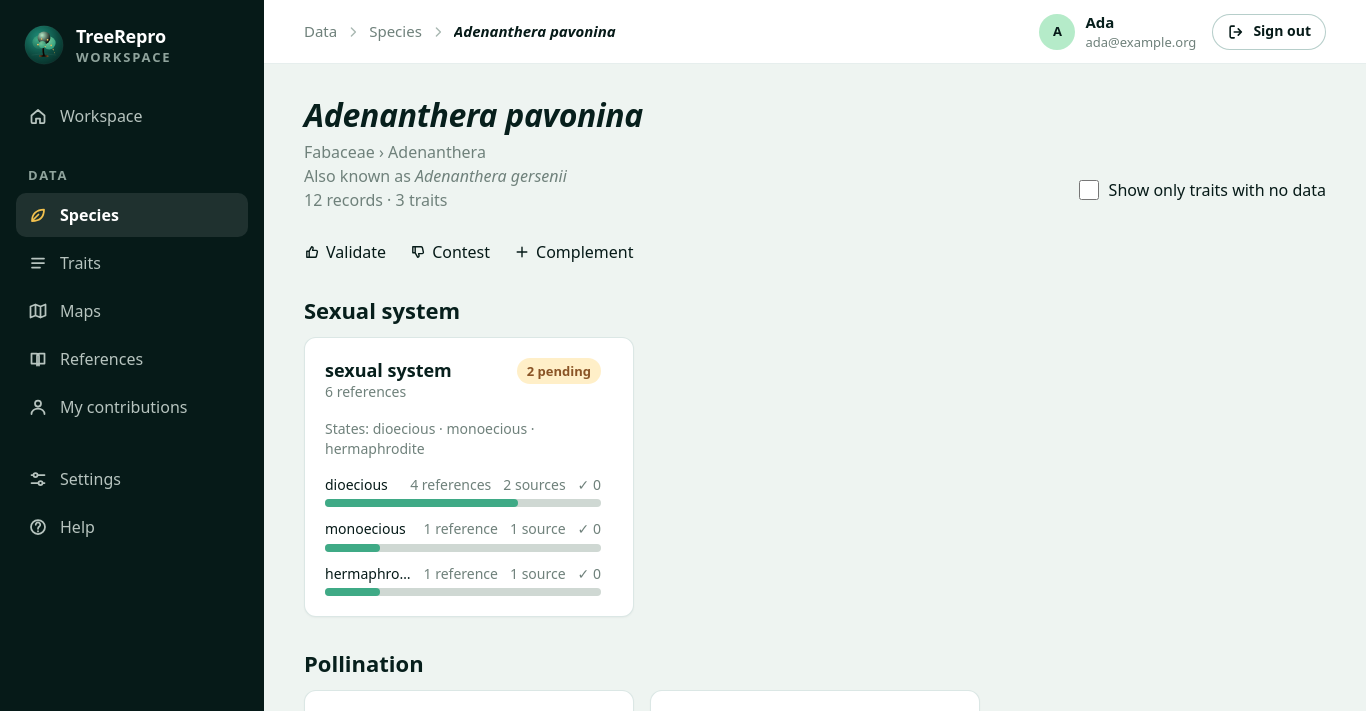
Test: RFC-63 R8, R9 SpeciesPage trait panel and record drawer › says so when a trait has no records
Expected: the heading "Adenanthera pavonina" is shown, [304,96,643,134]
Click the button "sexual system" at [388, 370], box [325,358,601,459]
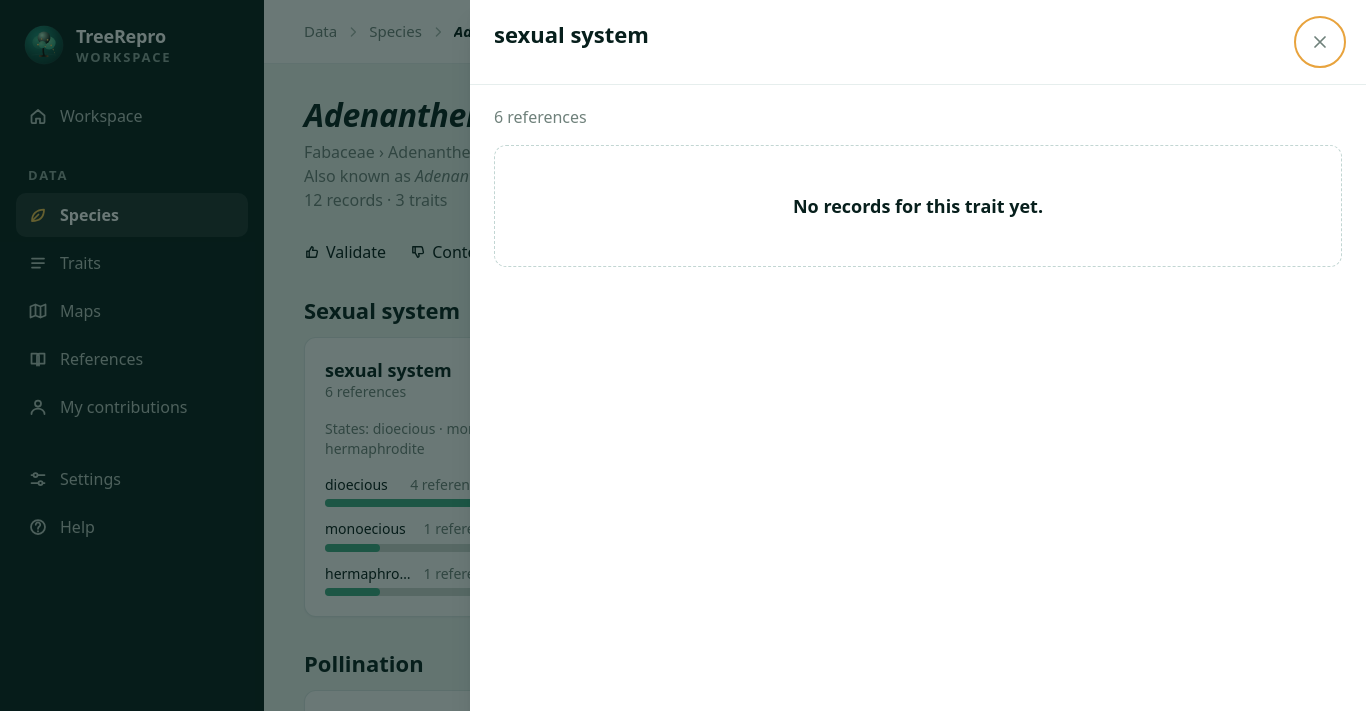
Expected: the text "No records for this trait yet." is shown, [793,194,1043,218]
